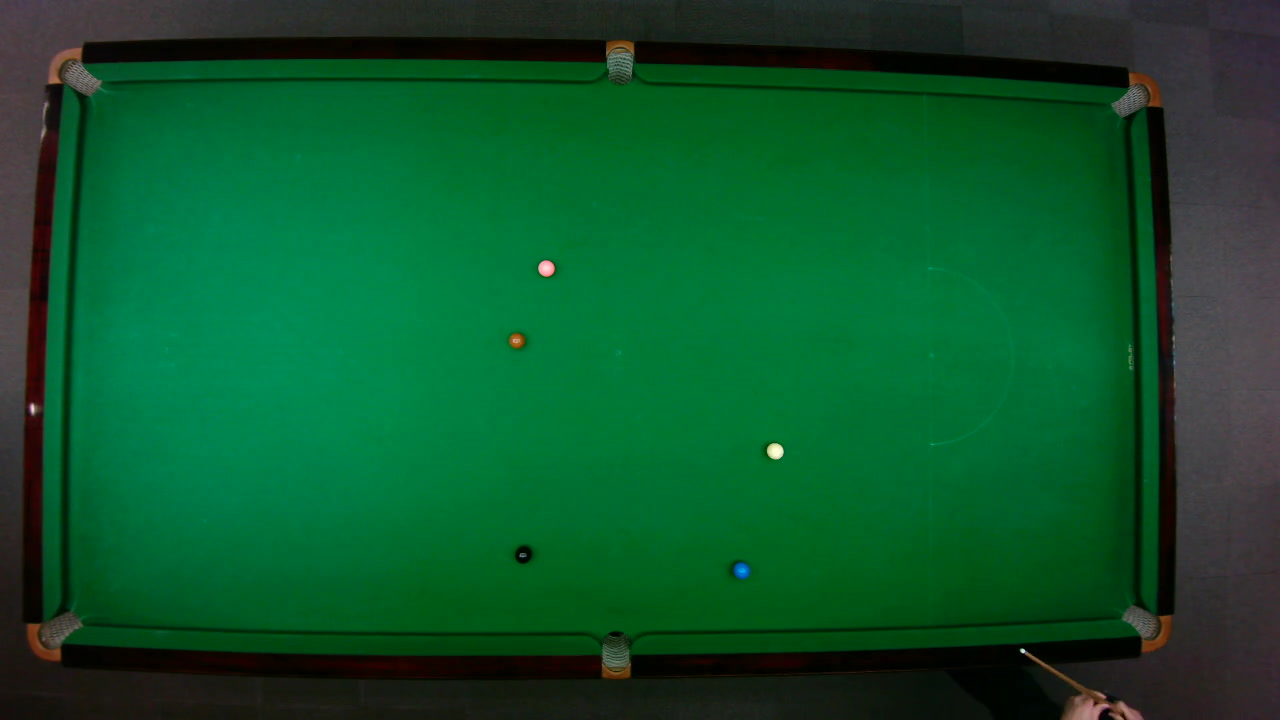bag: (25, 609, 83, 662), (45, 46, 102, 96), (1119, 603, 1172, 651), (1108, 71, 1161, 118), (600, 629, 629, 679), (605, 38, 633, 85)
black: (513, 544, 532, 563)
blue: (731, 560, 750, 579)
brown: (507, 331, 525, 349)
cue: (1014, 643, 1138, 720)
pink: (536, 258, 556, 277)
white: (765, 441, 784, 460)
zone: (927, 265, 1013, 446)
